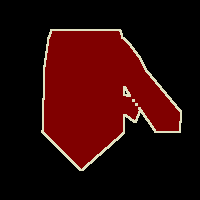tie: (42, 30, 181, 170)
